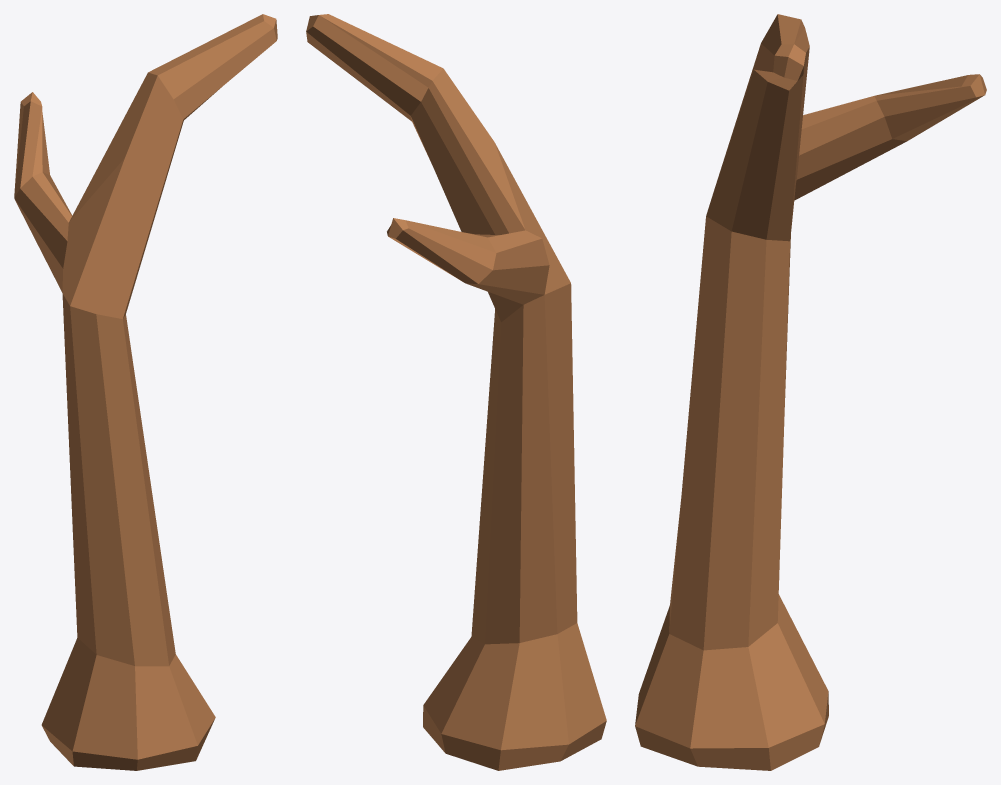
Rendered from Tree12Rot.fbx.
The picture shows the model from 3 angles, left to right: view 1: azimuth 30°, elevation 25°; view 2: azimuth 150°, elevation 25°; view 3: azimuth 270°, elevation 25°; orthographic projection. The views are drawn at different scales.
Parts seen in each view (by area): view 1: Tree12Rot; view 2: Tree12Rot; view 3: Tree12Rot.
Part boxes in pixels (x1,y1,x2,y2): Tree12Rot: (14,14,277,770); Tree12Rot: (306,14,606,770); Tree12Rot: (635,14,986,770).
Bounding box in the file's own units: 138 × 360 × 148.
